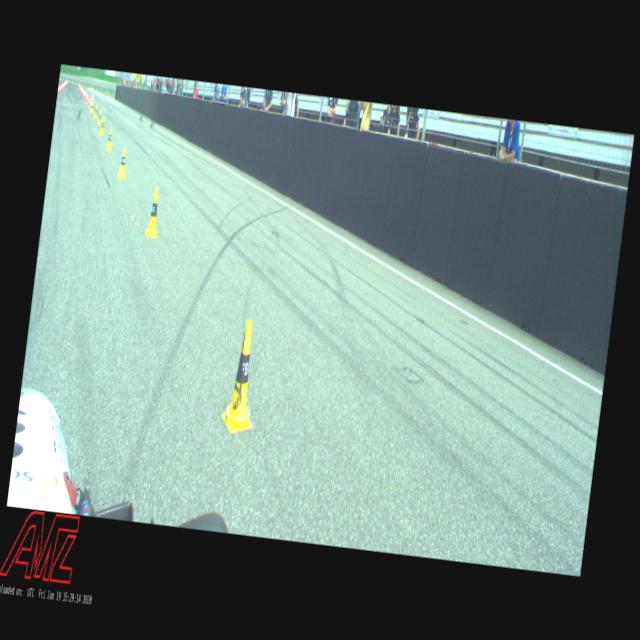large_orange_cone: (88, 91, 95, 109)
orange_cone: (88, 95, 90, 105)
yellow_cone: (220, 318, 264, 436), (144, 186, 164, 239), (116, 146, 128, 179), (105, 125, 114, 152), (98, 115, 105, 135), (96, 109, 102, 125), (93, 104, 98, 118), (90, 100, 94, 112)
